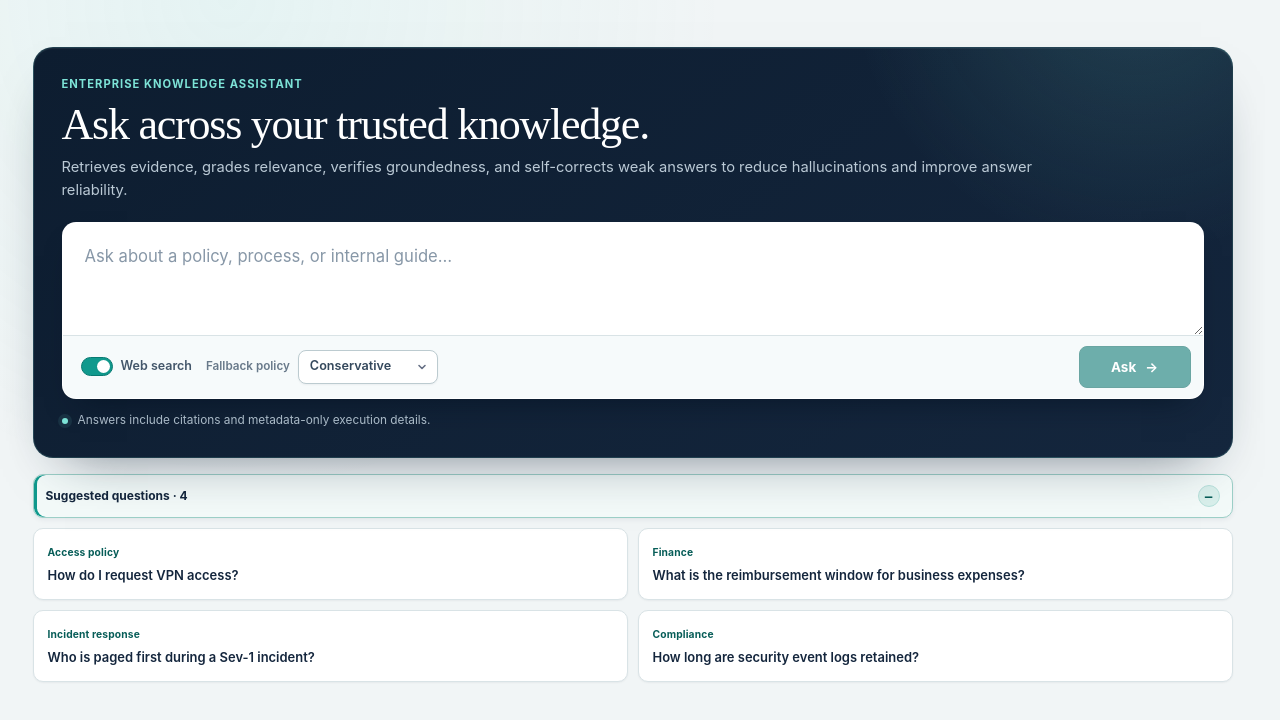
it: AskPage › shows Web off in the counters badge when web search is unavailable
Type "What is the expense policy?" into the text box named "Question". click: (632, 279)
box: left=62, top=223, right=1202, bottom=334
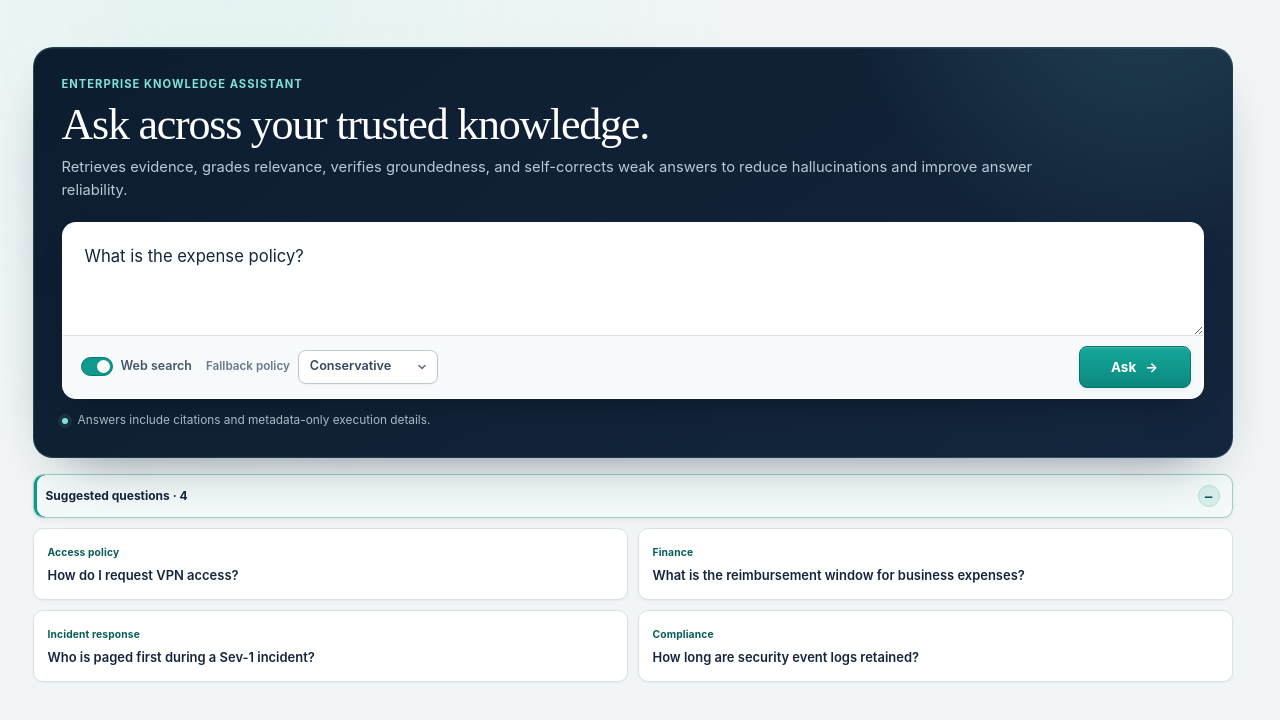
Click the button "Ask →". click: (1134, 367)
box: left=1078, top=346, right=1190, bottom=388
(page scrolled)
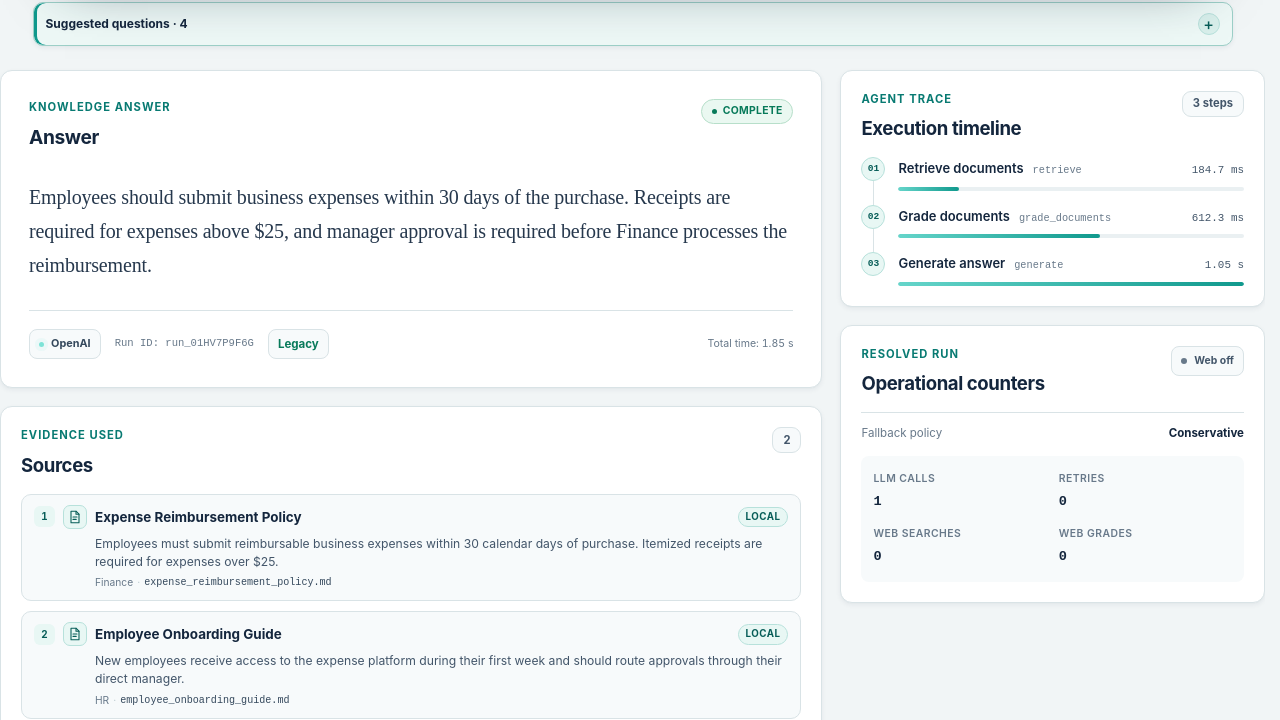
Expected: the element with class "run-summary-card" is shown, left=840, top=324, right=1265, bottom=603
Expected: the text "Web off" is shown, left=1171, top=346, right=1244, bottom=376
